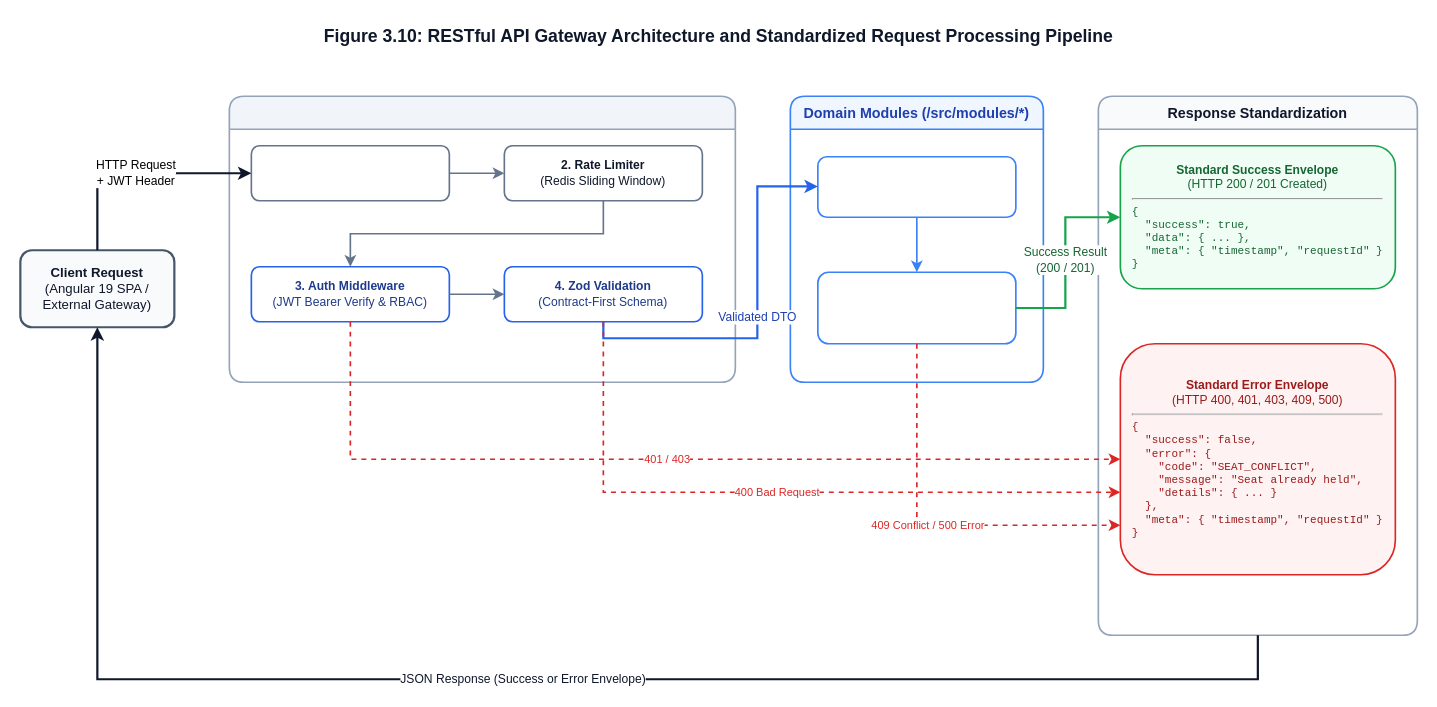
Image size: 1437x707. Some labels were removed from this diagram. The shapes that lost their labels are listed below. From the top down, each one's box as (x1, y1, x2, y2) in pixels, then its label:
(250, 144, 450, 201): 1. CORS & Security (Helmet, Secure Headers)
(817, 155, 1016, 218): Module Controller (Extract DTO & Context)
(228, 95, 736, 383): Express API Gateway Pipeline (/api/v1)
(817, 271, 1016, 344): Domain Service (Business Logic, Lua Lock, Prisma Transaction)
